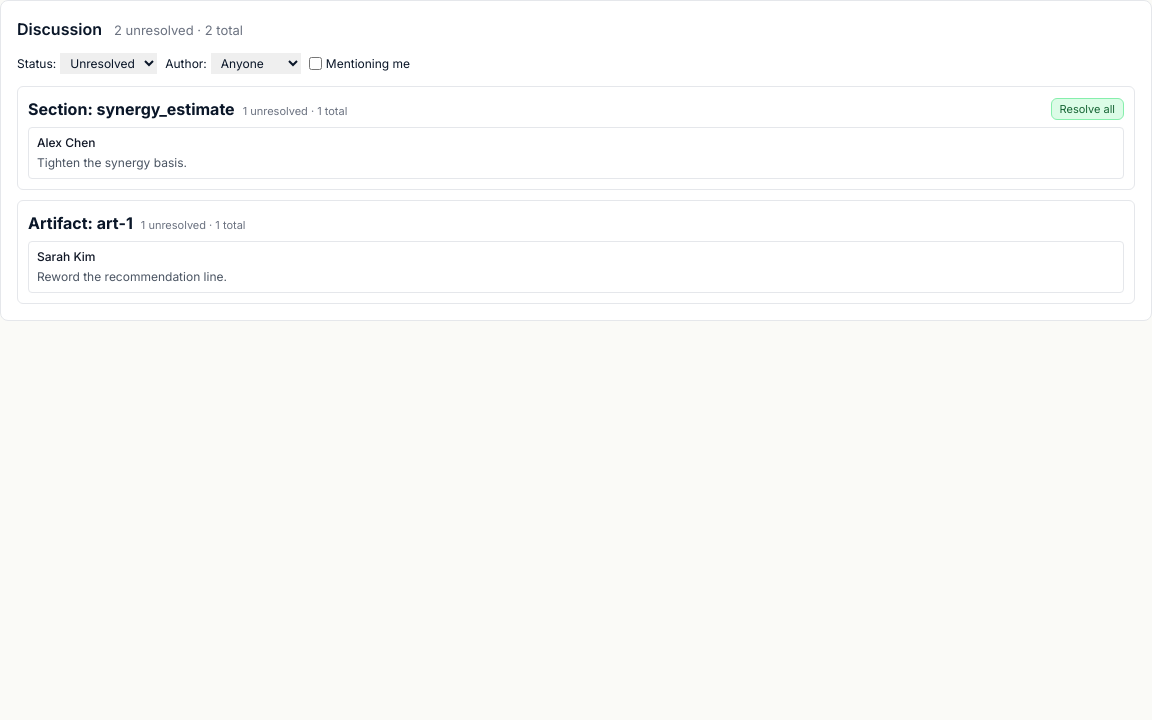
Test: CommentOverview › opens the panel for the clicked thread
This screenshot has width=1152, height=720.
What coordinates should you click on to do the following:
click the button with test id "overview-thread-c1"
I would click on:
 (66, 142)
Its box is [28, 127, 1124, 179].
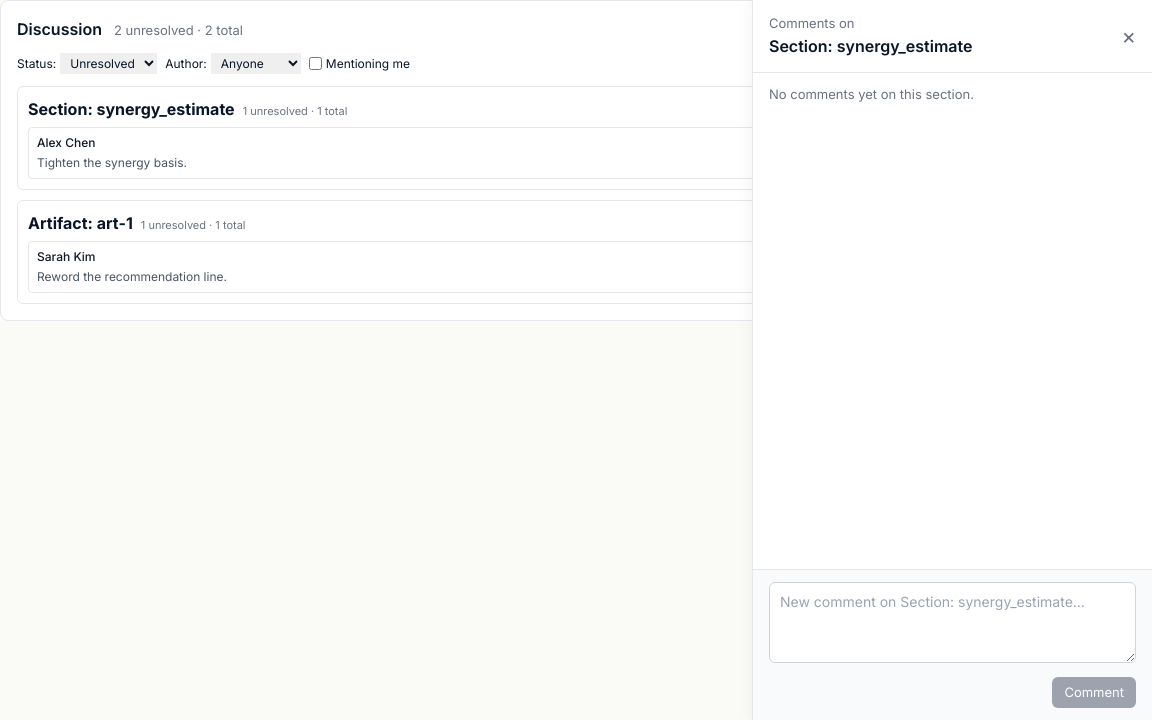
Result: the element with test id "thread-panel" is shown at [752, 0, 1151, 719]
Result: the text with test id "thread-anchor-label" reads "Section: synergy_estimate" at [769, 36, 972, 56]
